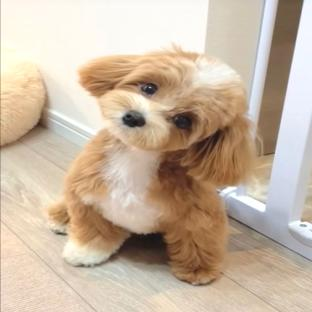Animal: (49, 46, 256, 284)
